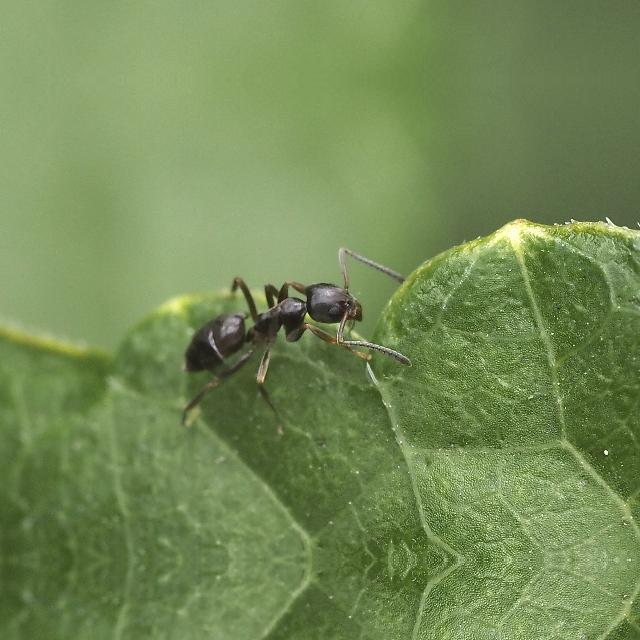Tapinoma: (164, 244, 406, 394)
